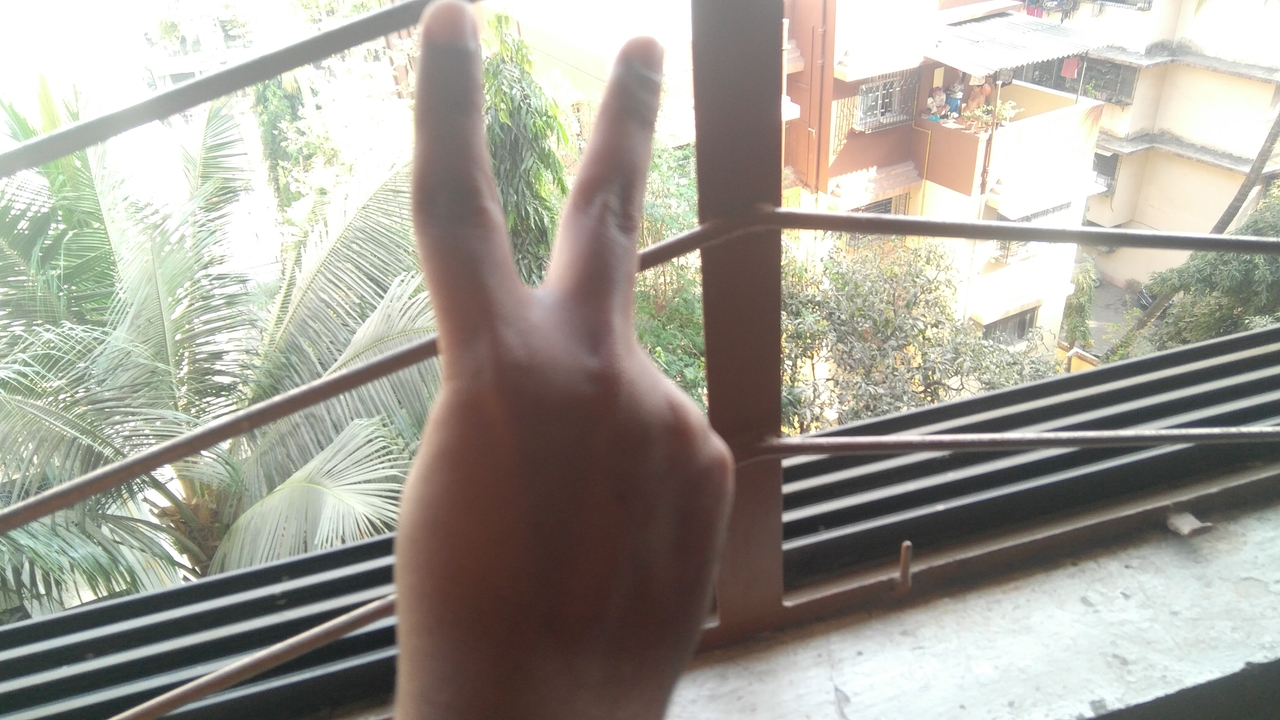fingertip: (414, 0, 478, 56), (610, 34, 668, 86)
